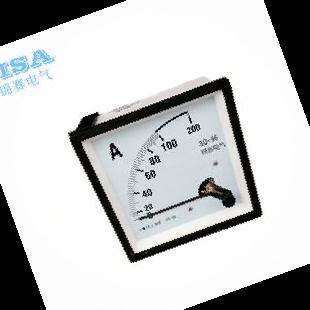pointer: (78, 90, 253, 254)
